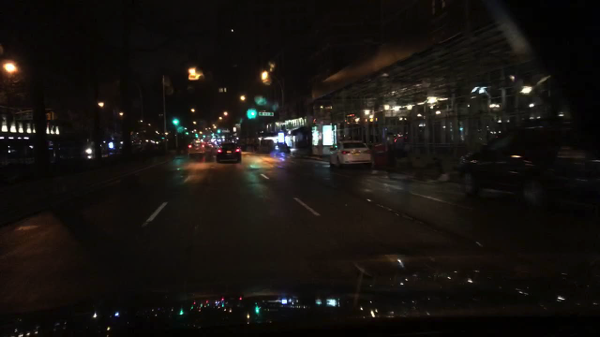car: (456, 114, 599, 210), (328, 141, 373, 169), (216, 142, 242, 162), (186, 140, 208, 156), (106, 137, 128, 151), (80, 146, 105, 158), (206, 143, 215, 156)
traffic light: (250, 109, 255, 118), (173, 117, 177, 125)
traffic sign: (258, 112, 275, 117)
